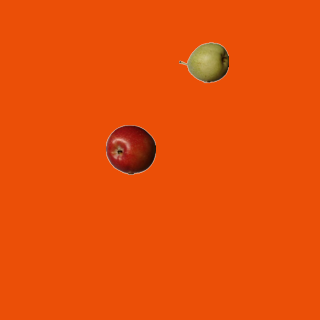Apple Braeburn: (105, 124, 155, 174)
Pear: (178, 37, 228, 87)
